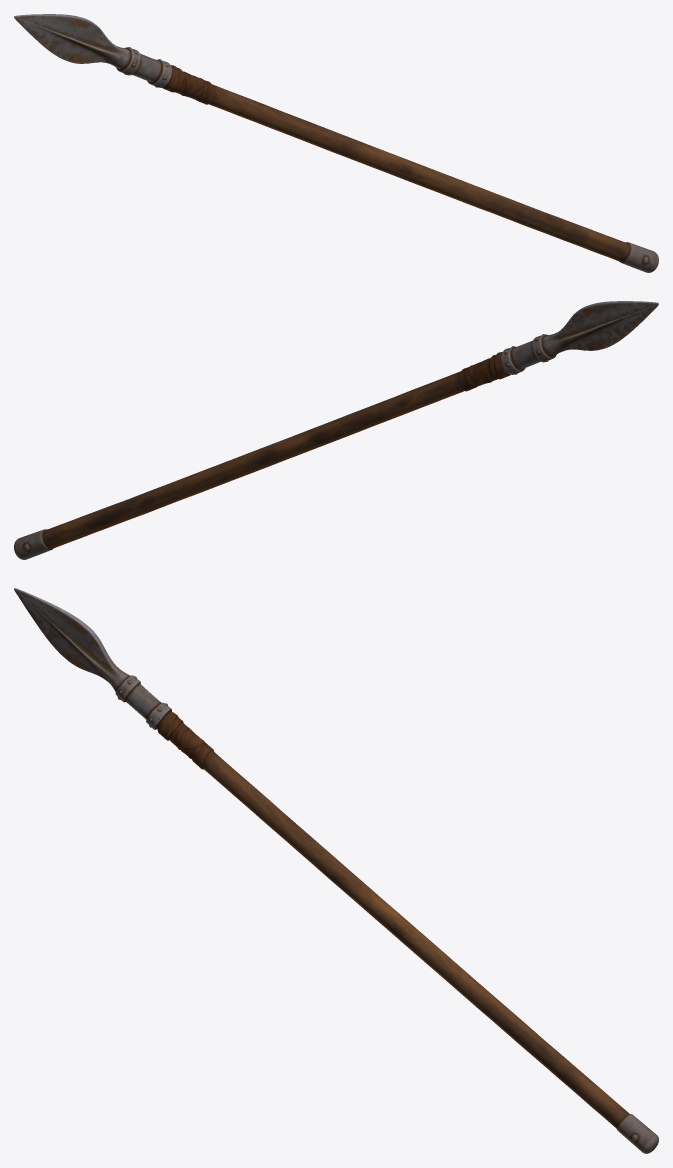
Rendered from speer_eisenholz_original.glb.
3 views of the same model, one above another, from view 1: azimuth 30°, elevation 25°; view 2: azimuth 150°, elevation 25°; view 3: azimuth 330°, elevation 25° (orthographic).
Parts seen in each view (by area): view 1: geometry_0; view 2: geometry_0; view 3: geometry_0.
Boxes of the visible parts, x1,y1,x2,y2 form: geometry_0: (14, 14, 658, 272); geometry_0: (14, 301, 658, 559); geometry_0: (14, 588, 658, 1153).
Bounding box in the file's own units: 1.9 × 1.16 × 0.0756.
1 material, 1 textured.
